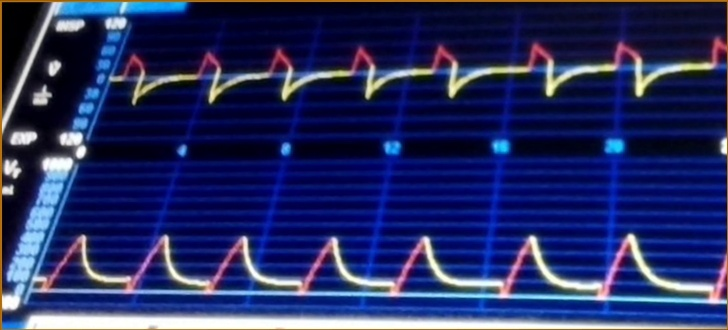Flow: (120, 28, 728, 132)
Leakage Volume: (36, 225, 728, 313)
